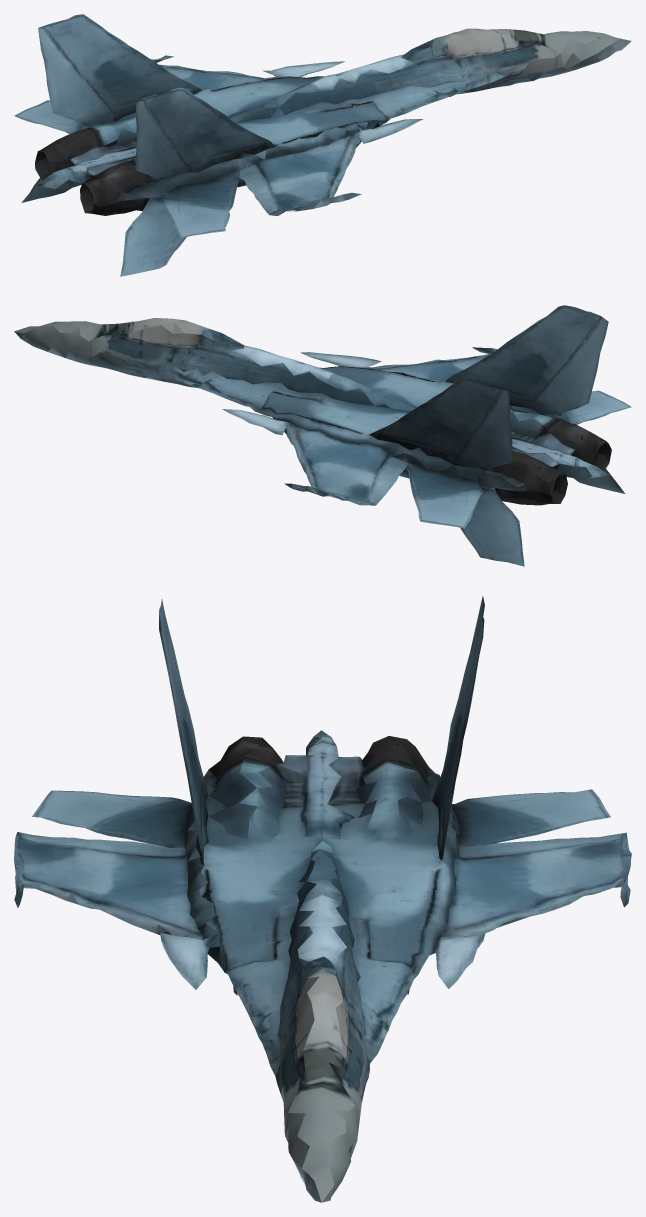
The model's file is fh_plane_osa_trellis.glb.
3 views of the same model, one above another, from view 1: azimuth 30°, elevation 25°; view 2: azimuth 150°, elevation 25°; view 3: azimuth 270°, elevation 25° (orthographic). The views are drawn at different scales.
Visible parts, largest first — view 1: osa_dec2; view 2: osa_dec2; view 3: osa_dec2.
Boxes of the visible parts, <box> form: osa_dec2: <box>14,14,631,276</box>; osa_dec2: <box>14,305,631,566</box>; osa_dec2: <box>14,596,631,1202</box>.
Size of the model in its own units: 1 by 0.2818 by 0.5545.
Materials: 1 (1 with a texture image).
